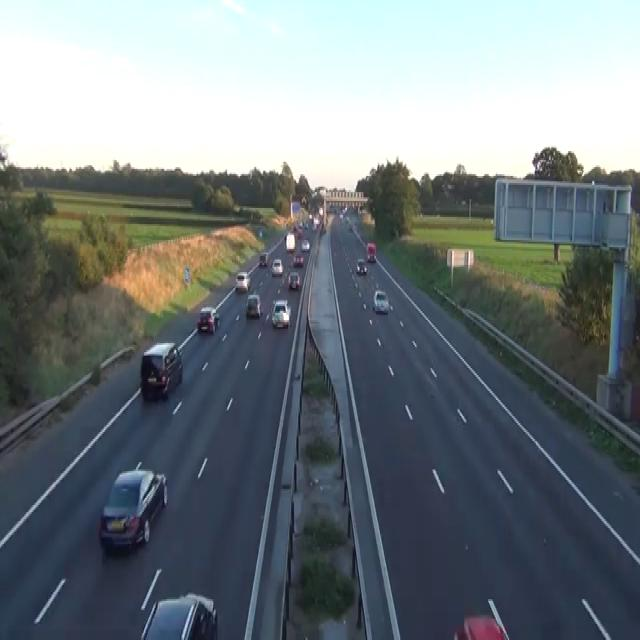Car: (98, 460, 168, 553), (139, 592, 217, 638), (140, 341, 183, 400), (453, 614, 508, 638), (196, 306, 219, 334), (271, 299, 291, 327), (373, 290, 389, 313), (234, 270, 250, 292), (245, 294, 261, 316), (287, 270, 300, 290), (271, 258, 283, 276), (356, 258, 367, 274), (211, 307, 219, 329), (366, 242, 375, 261), (259, 250, 268, 266), (293, 254, 303, 267), (293, 224, 302, 238), (301, 238, 309, 251), (312, 215, 319, 228), (301, 220, 308, 230), (296, 228, 303, 236), (321, 222, 326, 233), (311, 222, 316, 231), (292, 224, 297, 233), (344, 215, 350, 222), (301, 196, 306, 204), (348, 222, 352, 231), (339, 212, 343, 220), (258, 228, 262, 236), (343, 204, 347, 212)
Truck: (285, 233, 295, 251)
